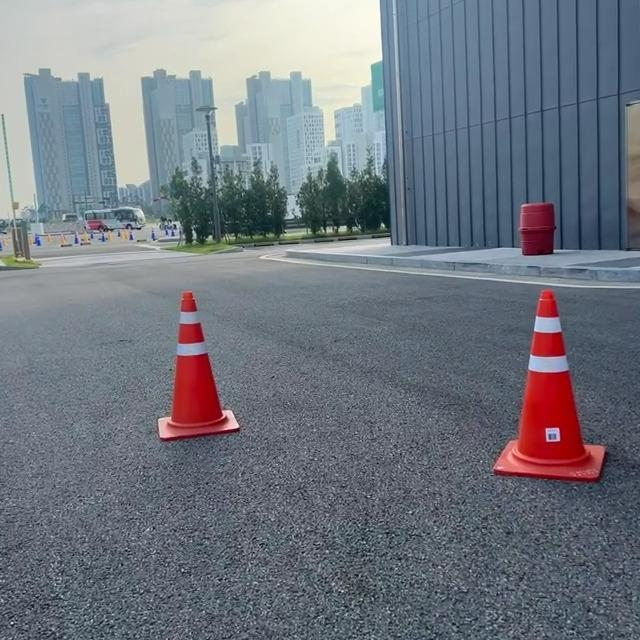fallen_object: (437, 279, 640, 542), (129, 313, 285, 469)
